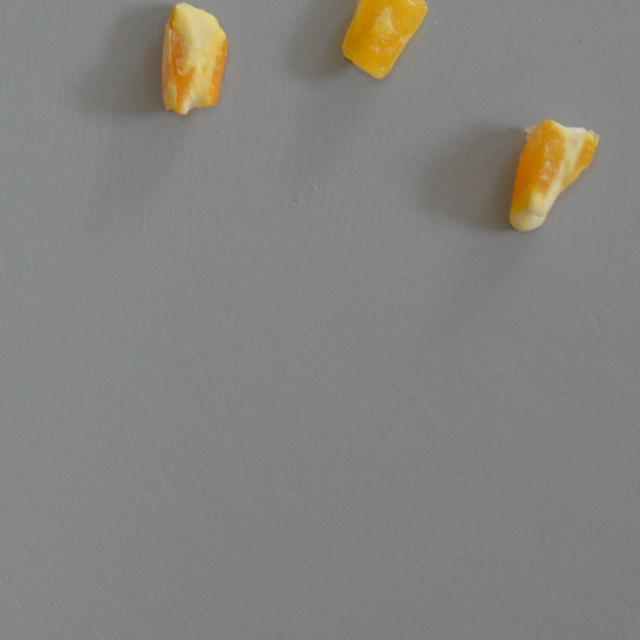pelicula: (506, 119, 598, 234), (156, 0, 228, 118), (342, 0, 428, 80)
